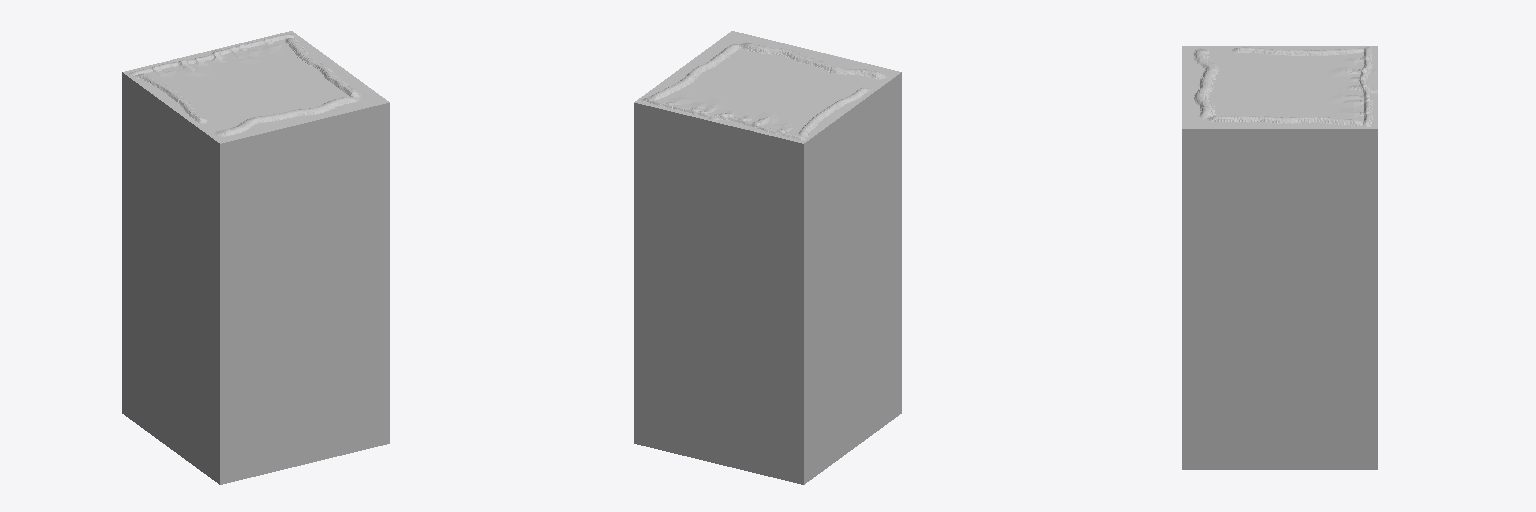
The model's file is BlockBuilding5.obj.
The picture shows the model from 3 angles: view 1: azimuth 30°, elevation 25°; view 2: azimuth 150°, elevation 25°; view 3: azimuth 270°, elevation 25°; orthographic projection.
Parts seen in each view (by area): view 1: Cube; view 2: Cube; view 3: Cube.
Boxes of the visible parts, x1,y1,x2,y2 form: Cube: [122, 31, 389, 484]; Cube: [634, 31, 901, 484]; Cube: [1182, 46, 1377, 469].
Bounding box in the file's own units: 103 × 199 × 103.